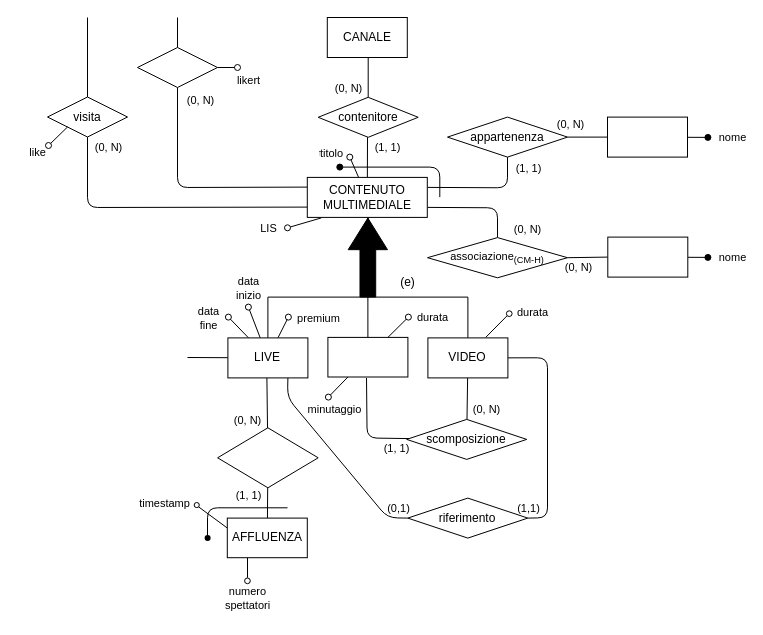
Image size: 763x635. Some labels were removed from this diagram. Here are the shapes that lost their labels. From the top down, the centre of each, then its label:
At point 177,67: "voto".
At point 647,136: "CATEGORIA".
At point 647,256: "HASHTAG".
At point 367,356: "CLIP".
At point 267,457: "media spettatori".
